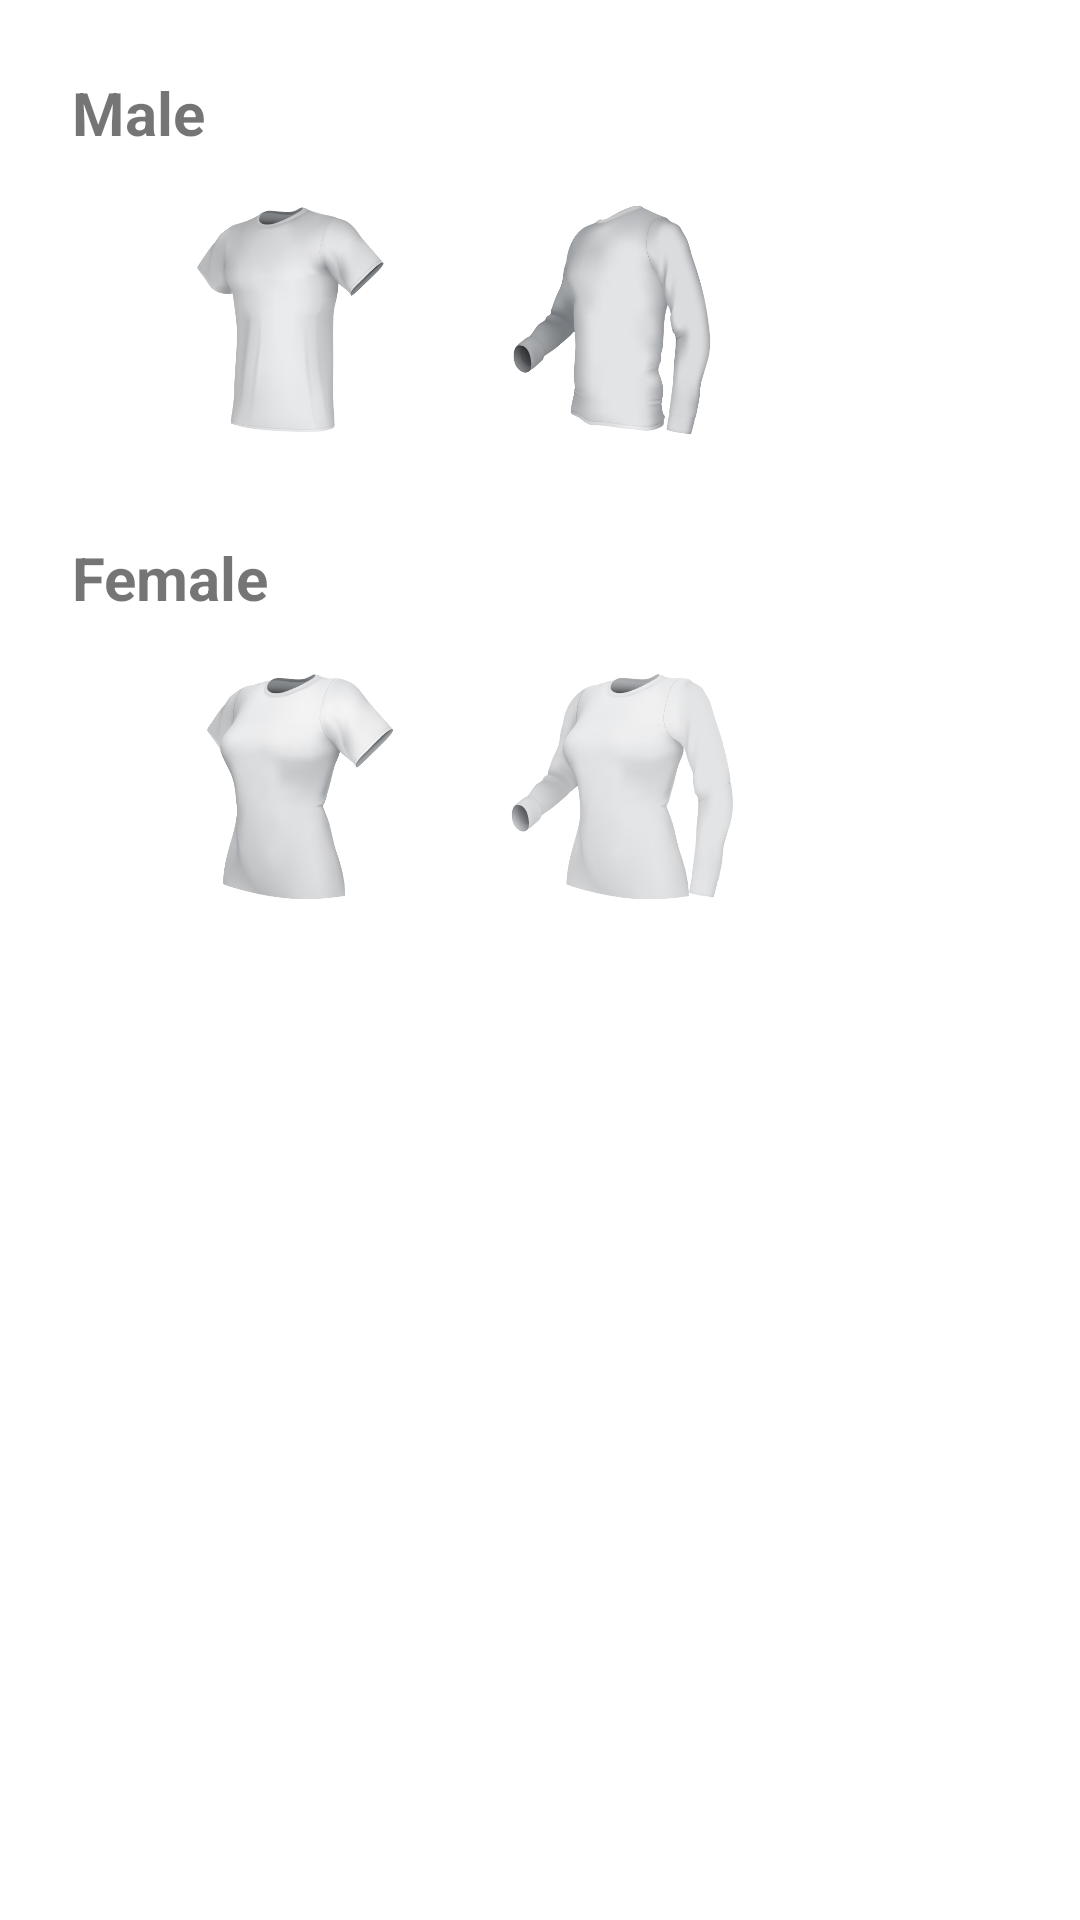

Locate icon controls on the screen. Image size 1080px×1920px, boxes as rect(x1, y1, x2, y2).
btnfemalelong: rect(512, 674, 733, 899)
btnmalelong: rect(513, 206, 710, 434)
